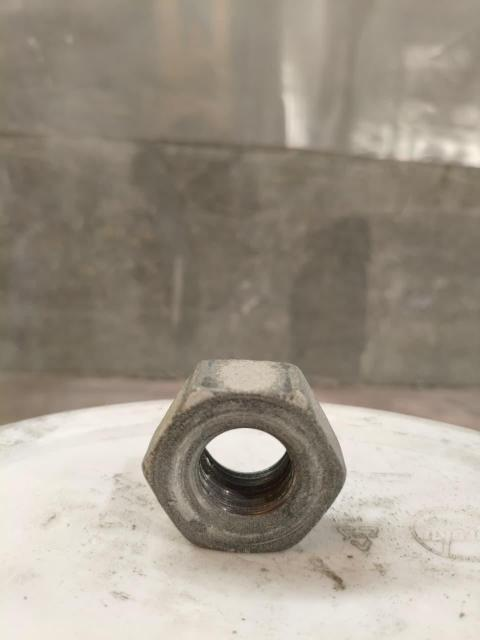Metal: (142, 360, 346, 556)
